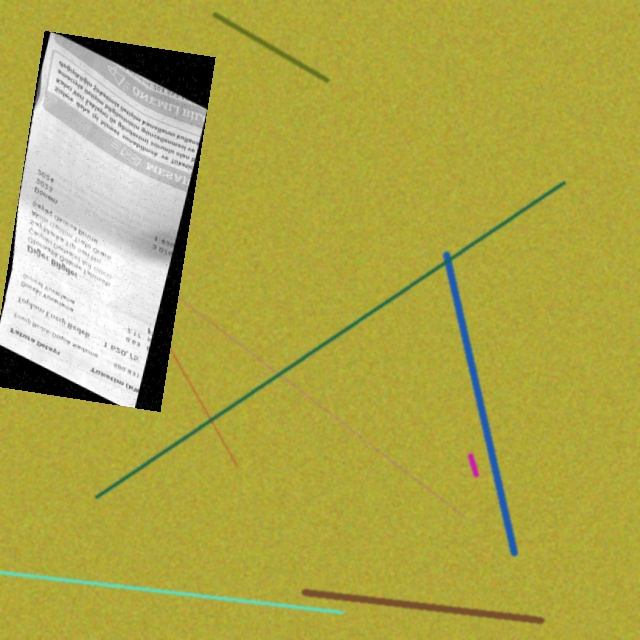electricity-bill: (0, 31, 216, 412)
